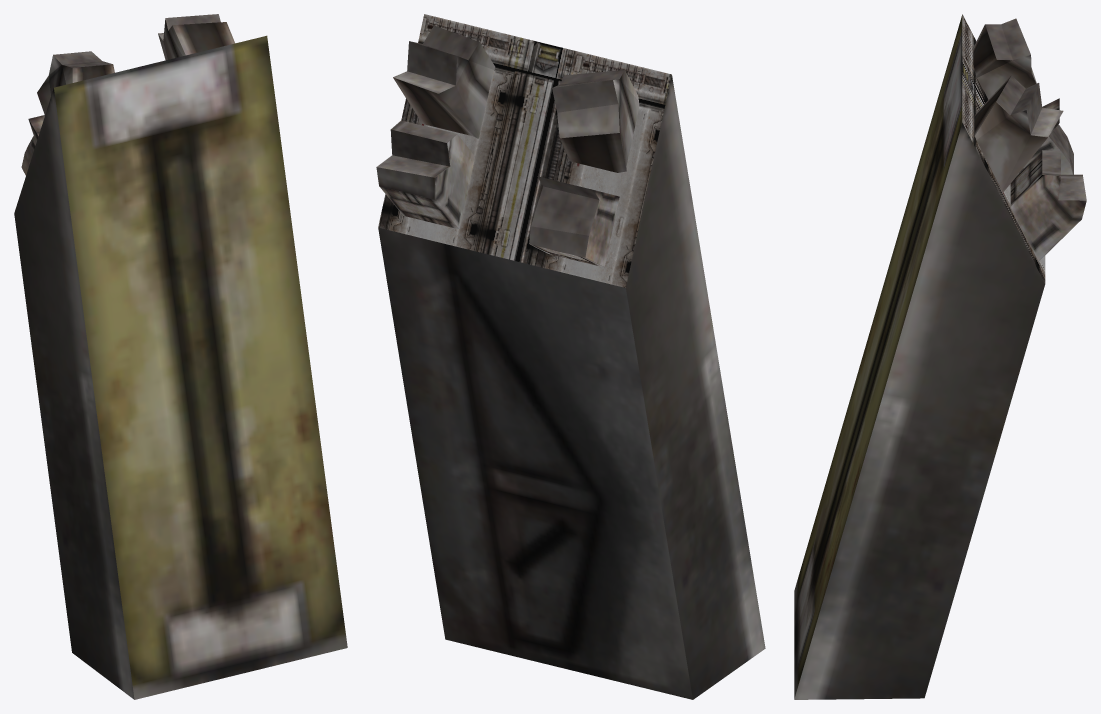
The model's file is theta_broken_support02.dae.
The picture shows the model from 3 angles, left to right: view 1: azimuth 30°, elevation 25°; view 2: azimuth 150°, elevation 25°; view 3: azimuth 270°, elevation 25°; orthographic projection. The views are drawn at different scales.
Parts seen in each view (by area): view 1: polySurface9; view 2: polySurface9; view 3: polySurface9.
Boxes of the visible parts, left/top/right/bottom form: polySurface9: left=14, top=14, right=347, bottom=699; polySurface9: left=376, top=14, right=765, bottom=699; polySurface9: left=794, top=14, right=1086, bottom=699.
Size of the model in its own units: 0.225 by 0.5686 by 0.2562.
